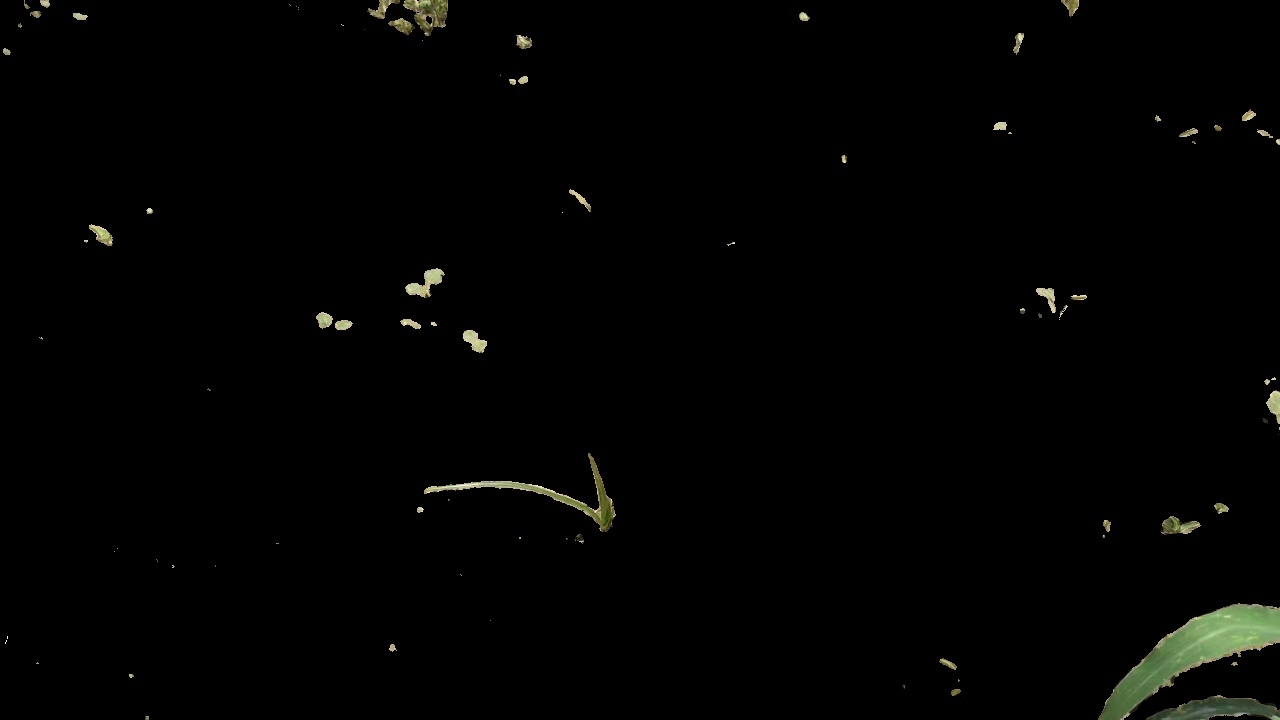crop: (1101, 578, 1278, 720)
weed: (419, 449, 619, 529), (369, 1, 458, 41), (1021, 284, 1091, 318), (389, 264, 445, 302), (311, 302, 356, 341), (1156, 499, 1201, 538), (505, 68, 536, 101), (86, 212, 117, 245), (1262, 377, 1280, 427), (981, 114, 1015, 139), (461, 329, 489, 357), (398, 317, 431, 332)
